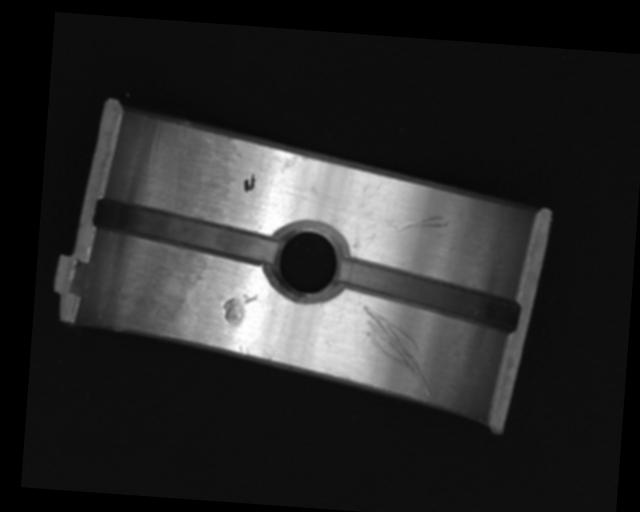blot: (242, 172, 256, 194)
bruise: (221, 291, 257, 327)
gap: (335, 257, 521, 331), (90, 197, 279, 263)
hole: (268, 219, 345, 302)
nick: (356, 304, 439, 395), (388, 211, 449, 234)
